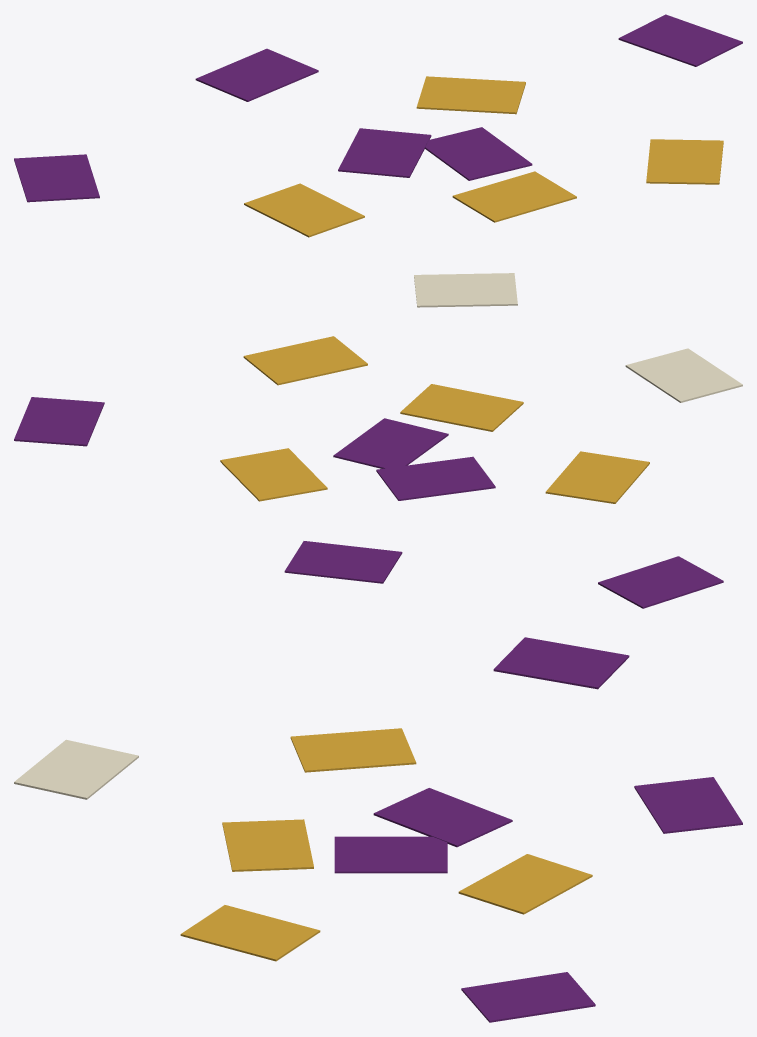
File: pamphlets.glb
3 views of the same model, one above another, from view 1: azimuth 30°, elevation 25°; view 2: azimuth 150°, elevation 25°; view 3: azimuth 270°, elevation 25° (orthographic). The views are drawn at different scales.
Parts seen in each view (by area): view 1: pamphlets; view 2: pamphlets; view 3: pamphlets.
Boxes of the visible parts, left/top/right/bottom form: pamphlets: left=14, top=14, right=742, bottom=307; pamphlets: left=14, top=336, right=742, bottom=608; pamphlets: left=14, top=637, right=742, bottom=1022.
Bounding box in the file's own units: 1.77 × 0.013 × 1.42.
